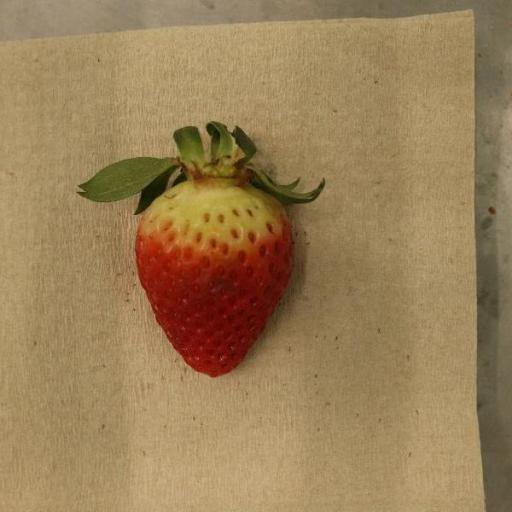Strawberry: (77, 121, 325, 377)
